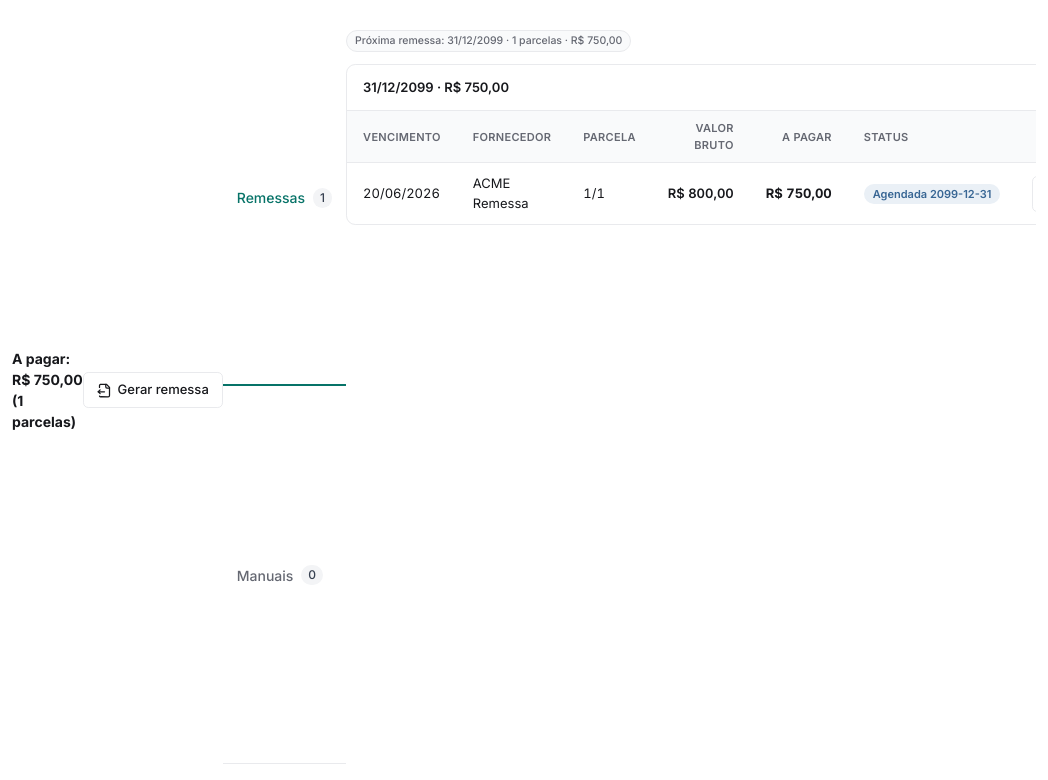
Scenario: PaymentTab › rail=Remittance item appears under Remessas, not under Manuais
Expected: the text "ACME Remessa" is shown, [457, 163, 567, 224]
Note: Switch to Manuais — item must NOT be there
Click the tab "Manuais 0": [280, 576] box [223, 390, 337, 763]
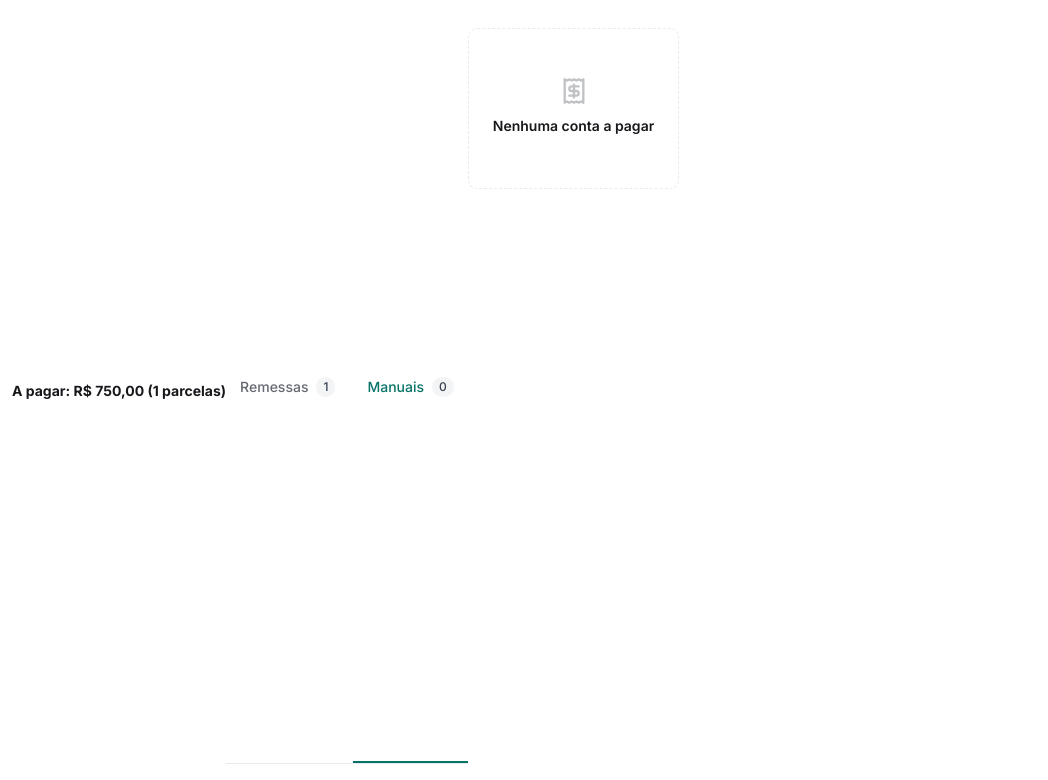
Now the text "ACME Remessa" is gone
